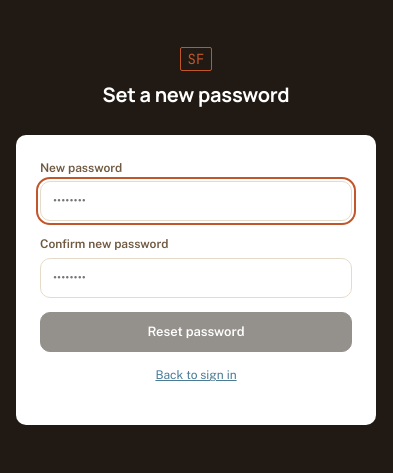
Scenario: ResetPasswordPage › shows the real backend error for an expired/invalid token
Type "brandnewpassword456" into the password field labelled "New password". click: (196, 201)
box: [40,181,352,221]
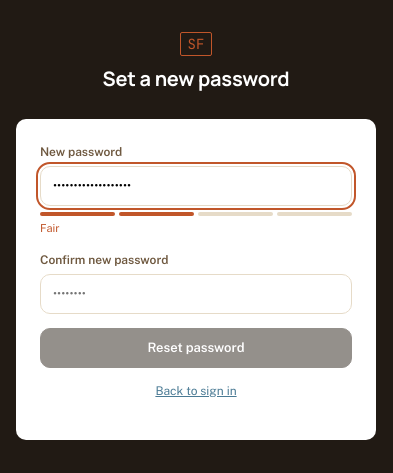
Type "brandnewpassword456" into the password field labelled "Confirm new password". click: (196, 294)
box: [40,274,352,314]
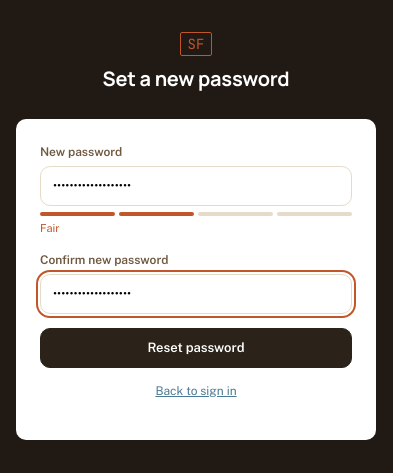
Click the button "Reset password". click: click(196, 348)
box: [40,328,352,368]
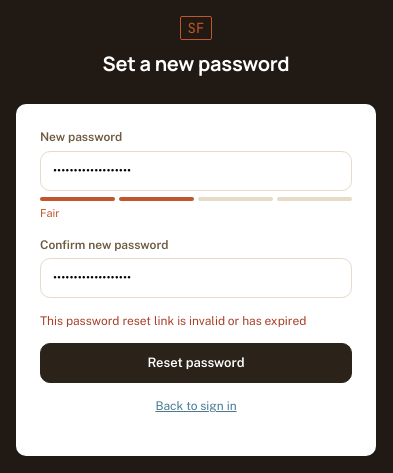
Now the text "This password reset link is invalid or has expired" is shown, box [40,312,352,331]
